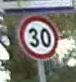limite 30: (16, 12, 59, 58)
